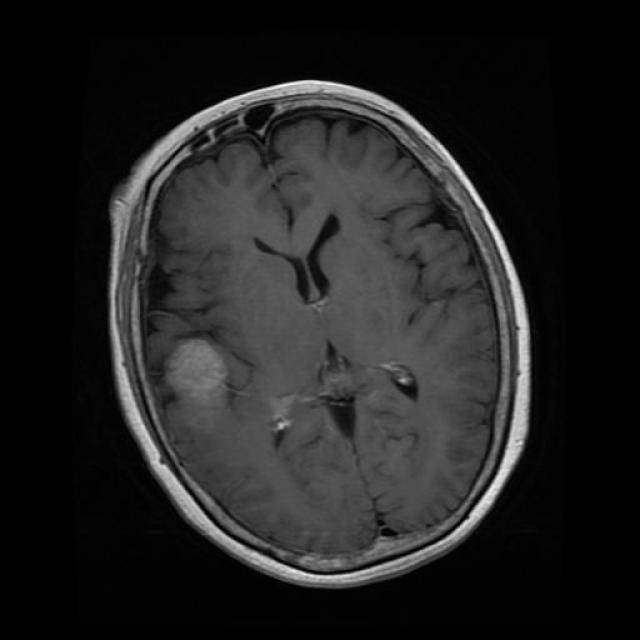Tumor: (161, 332, 245, 412)
